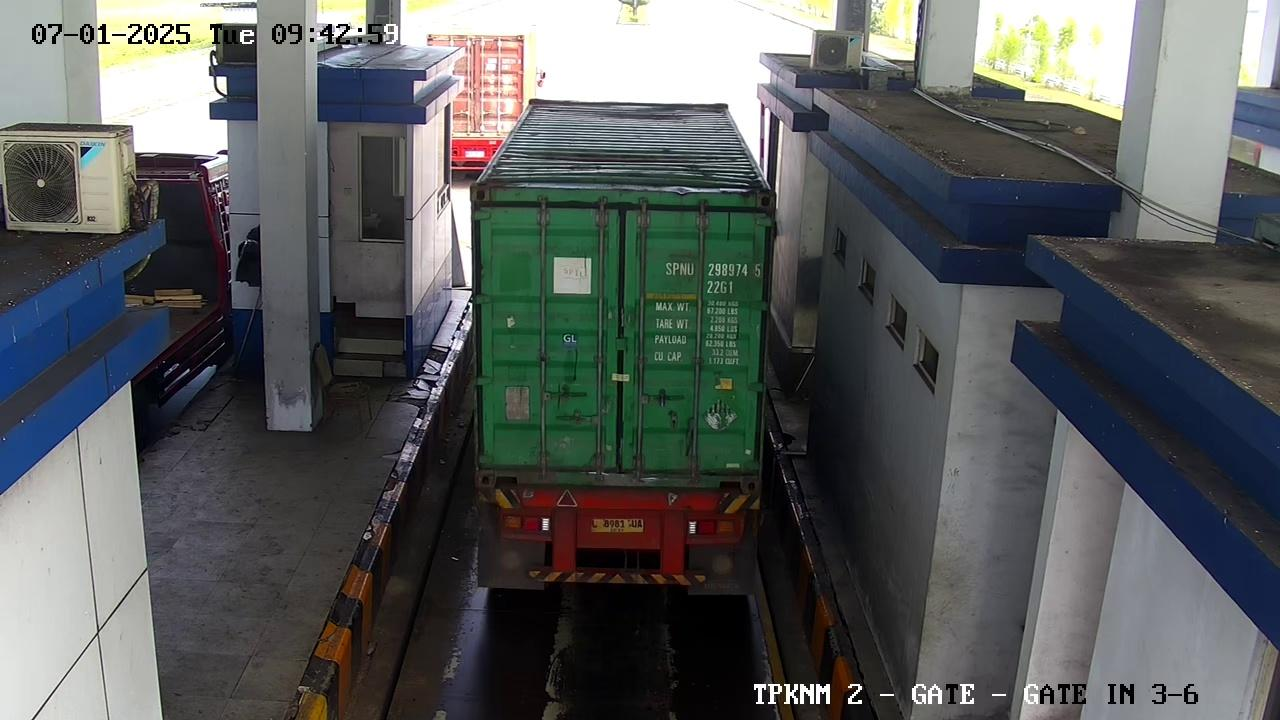Container_ID: (648, 248, 775, 298)
